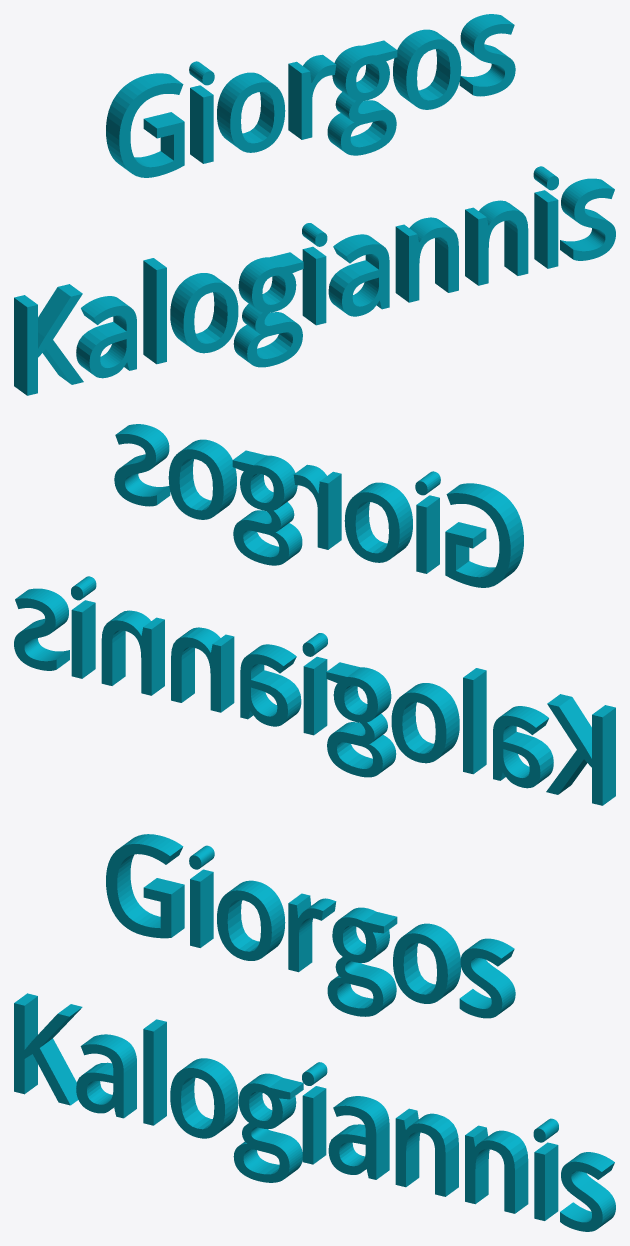
File: Name.glb
3 views of the same model, one above another, from view 1: azimuth 30°, elevation 25°; view 2: azimuth 150°, elevation 25°; view 3: azimuth 330°, elevation 25° (orthographic).
Parts seen in each view (by area): view 1: Mesh_Mesh_head_geo.001_lambert2SG.001; view 2: Mesh_Mesh_head_geo.001_lambert2SG.001; view 3: Mesh_Mesh_head_geo.001_lambert2SG.001.
Part boxes in pixels (box(x1,y1,x2,y2)): Mesh_Mesh_head_geo.001_lambert2SG.001: box(14, 14, 615, 395); Mesh_Mesh_head_geo.001_lambert2SG.001: box(14, 424, 615, 805); Mesh_Mesh_head_geo.001_lambert2SG.001: box(14, 834, 615, 1231).
Size of the model in its own units: 0.1388 by 0.0699 by 0.00544.
